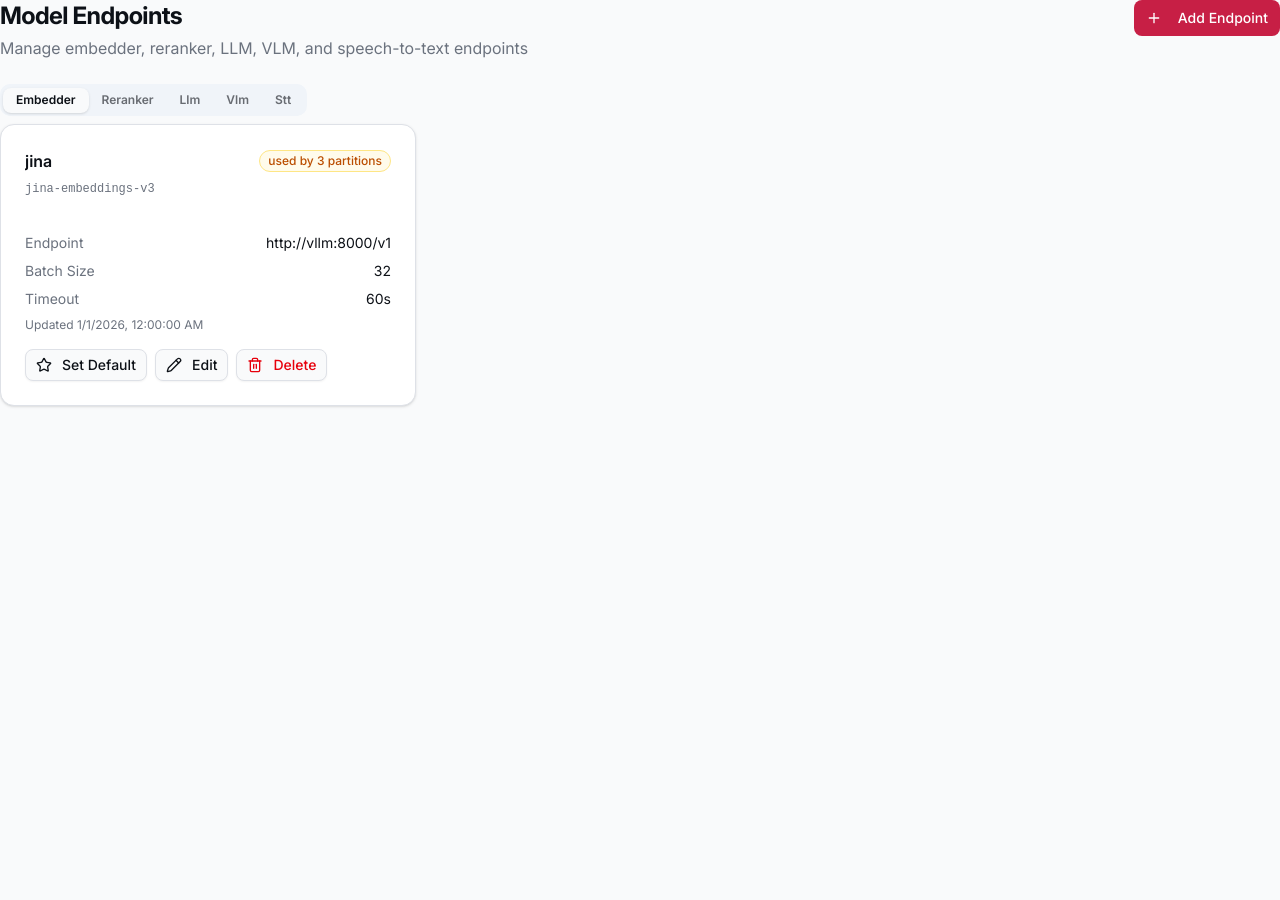
ModelsPage delete warning (#762) › shows the real partition count instead of a static warning
Expected: the text "used by 3 partitions" is shown, [259,150,391,172]
Click the button "Delete": (282, 365) [236,349,327,381]
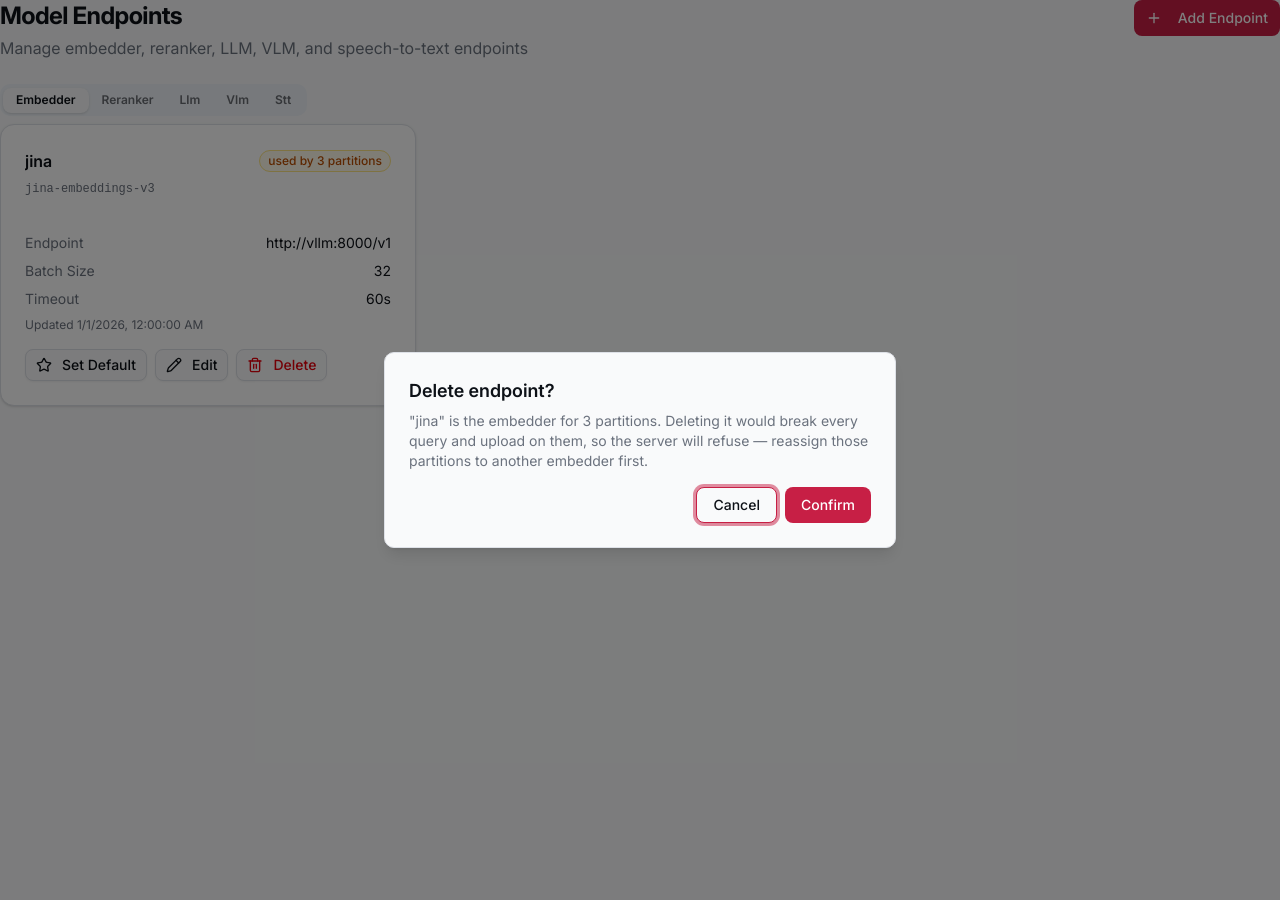
Now the text "the server will refuse" is shown, box [409,412,868,469]
